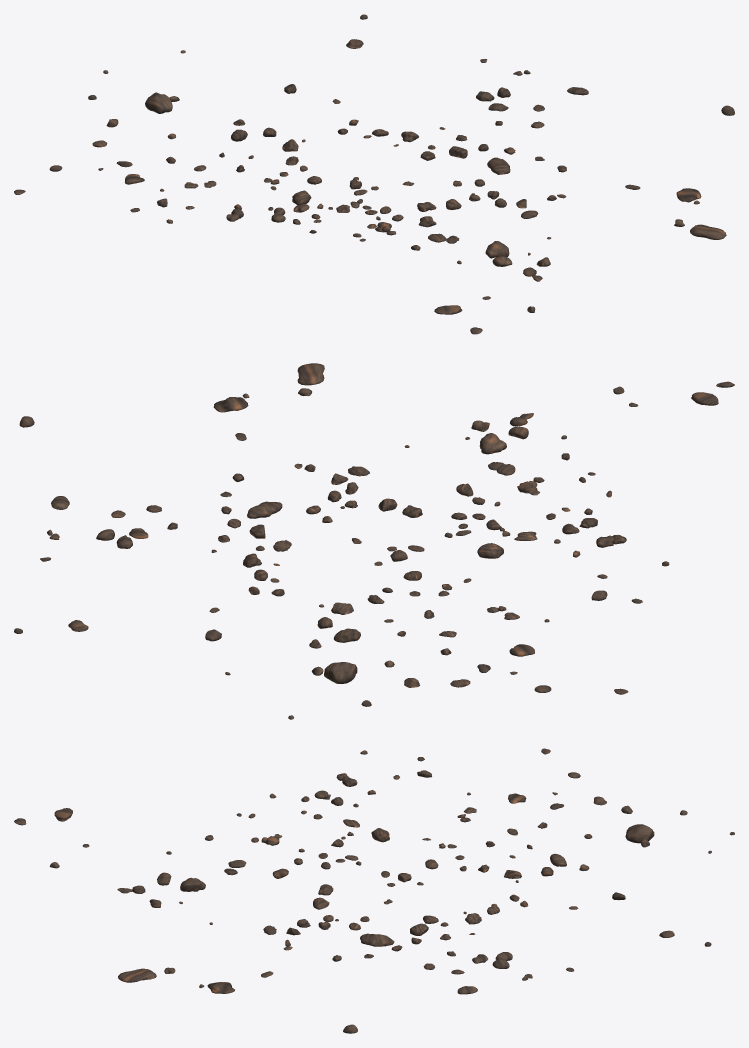
Rendered from rock_field_0.dae.
The picture shows the model from 3 angles, top to bottom: view 1: azimuth 30°, elevation 25°; view 2: azimuth 150°, elevation 25°; view 3: azimuth 270°, elevation 25°; orthographic projection. The views are drawn at different scales.
Parts seen in each view (by area): view 1: rock_field_0; view 2: rock_field_0; view 3: rock_field_0.
Part boxes in pixels (bbox=[...]): rock_field_0: bbox=[14, 14, 734, 334]; rock_field_0: bbox=[14, 363, 734, 719]; rock_field_0: bbox=[14, 748, 734, 1033].
Bounding box in the file's own units: 16.38 × 17.21 × 0.9506.
1 material, 1 textured.
